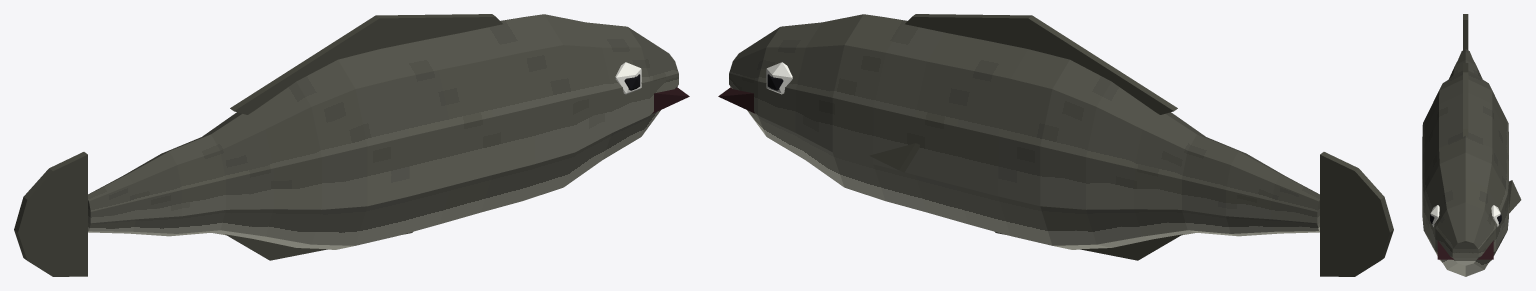
Rendered from hapuku.glb.
3 renders of one model, left to right at view 1: azimuth 30°, elevation 25°; view 2: azimuth 150°, elevation 25°; view 3: azimuth 270°, elevation 25°, orthographic. The views are drawn at different scales.
Visible parts, largest first — view 1: fish_hapuku; view 2: fish_hapuku; view 3: fish_hapuku.
Part boxes in pixels (left/top/right/bottom): fish_hapuku: left=14, top=14, right=689, bottom=276; fish_hapuku: left=718, top=14, right=1393, bottom=276; fish_hapuku: left=1422, top=14, right=1521, bottom=276.
Size of the model in its own units: 1.12 by 0.3658 by 0.2178.
5 materials, 1 textured.
